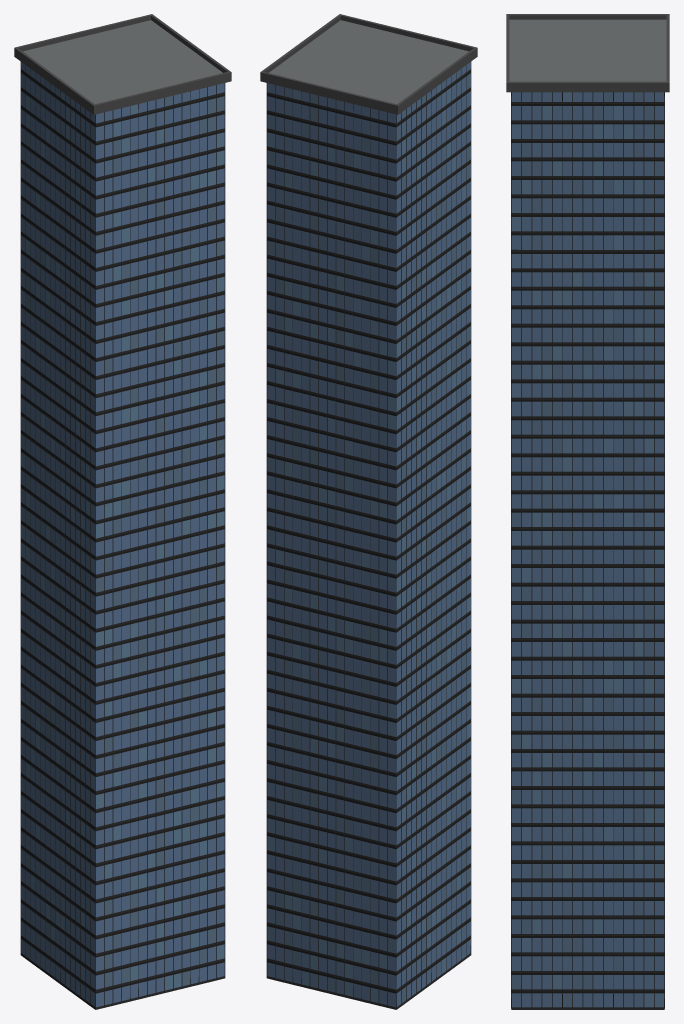
File: SkyScraper.fbx
The picture shows the model from 3 angles, left to right: view 1: azimuth 30°, elevation 25°; view 2: azimuth 150°, elevation 25°; view 3: azimuth 270°, elevation 25°; orthographic projection. The views are drawn at different scales.
Parts seen in each view (by area): view 1: Cube, Cube.001, Cube.002; view 2: Cube, Cube.001, Cube.002; view 3: Cube, Cube.001, Cube.002.
Boxes of the visible parts, x1=… form: Cube: x1=21, y1=62, x2=224, y2=1007; Cube.001: x1=20, y1=62, x2=225, y2=1009; Cube.002: x1=14, y1=14, x2=231, y2=114; Cube: x1=267, y1=62, x2=470, y2=1007; Cube.001: x1=266, y1=62, x2=471, y2=1009; Cube.002: x1=260, y1=14, x2=477, y2=114; Cube: x1=511, y1=92, x2=664, y2=1007; Cube.001: x1=511, y1=92, x2=664, y2=1009; Cube.002: x1=506, y1=14, x2=669, y2=92.
Bounding box in the file's own units: 3200 × 20100 × 3200.
